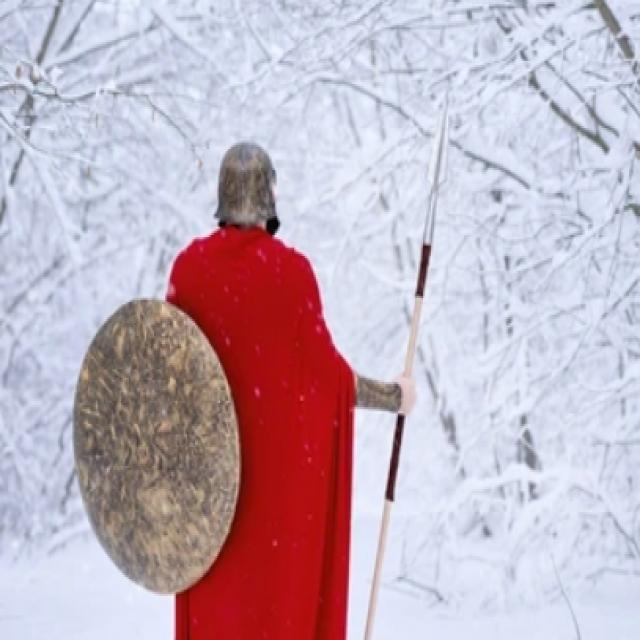spear: (357, 98, 474, 638)
